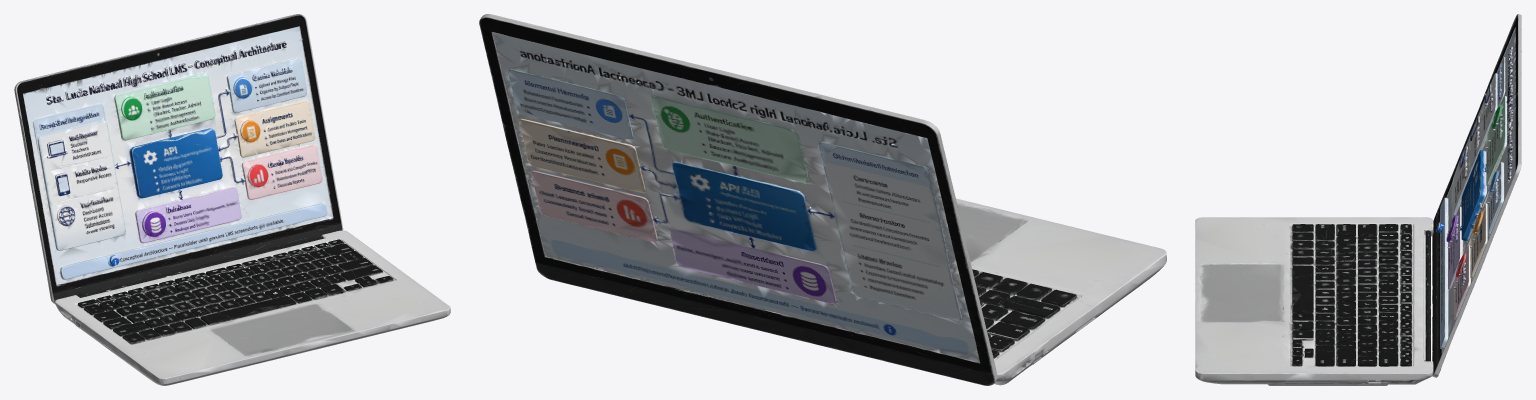
Rendered from project-laptop.glb.
The picture shows the model from 3 angles, left to right: view 1: azimuth 30°, elevation 25°; view 2: azimuth 150°, elevation 25°; view 3: azimuth 270°, elevation 25°; orthographic projection. The views are drawn at different scales.
Parts seen in each view (by area): view 1: Interface, Application; view 2: Interface, Application; view 3: Application, Interface, Database.
Boxes of the visible parts, x1,y1,x2,y2 form: Interface: [14, 14, 341, 291]; Application: [49, 221, 450, 385]; Interface: [479, 14, 995, 369]; Application: [534, 198, 1166, 385]; Application: [1195, 211, 1441, 382]; Interface: [1436, 14, 1521, 365]; Database: [1204, 231, 1424, 385].
Size of the model in its own units: 3.7 by 2.47 by 3.26.
Materials: 2 (1 with a texture image).
